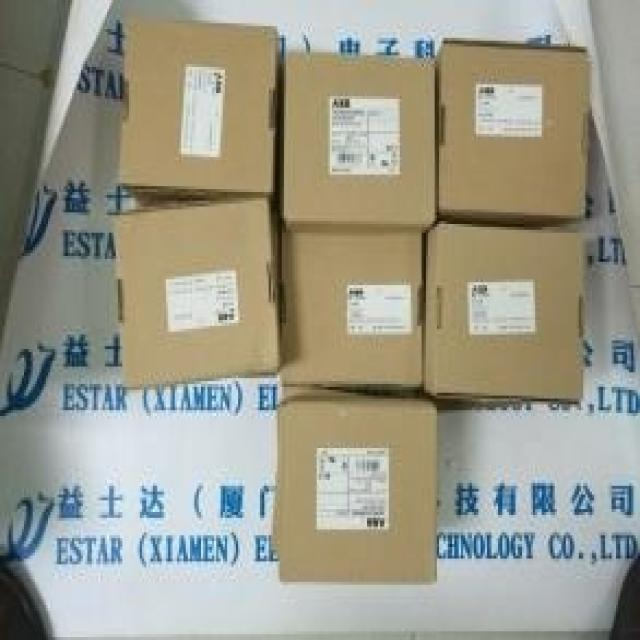box: (107, 193, 282, 386), (424, 216, 582, 407), (278, 395, 438, 583), (118, 18, 278, 205), (278, 50, 436, 234), (434, 42, 588, 227), (277, 229, 424, 384), (279, 387, 351, 402), (271, 485, 279, 553)
